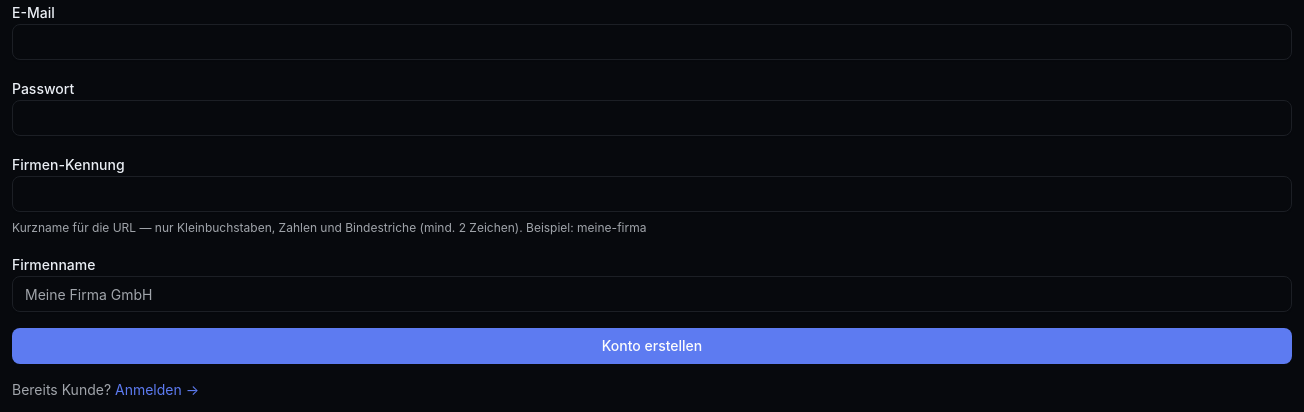
Scenario: RegisterForm › zeigt nach erfolgreichem Submit die Success-Card
Type "max@example.com" into the field labelled "E-Mail" at [652, 42], box [12,24,1292,60]
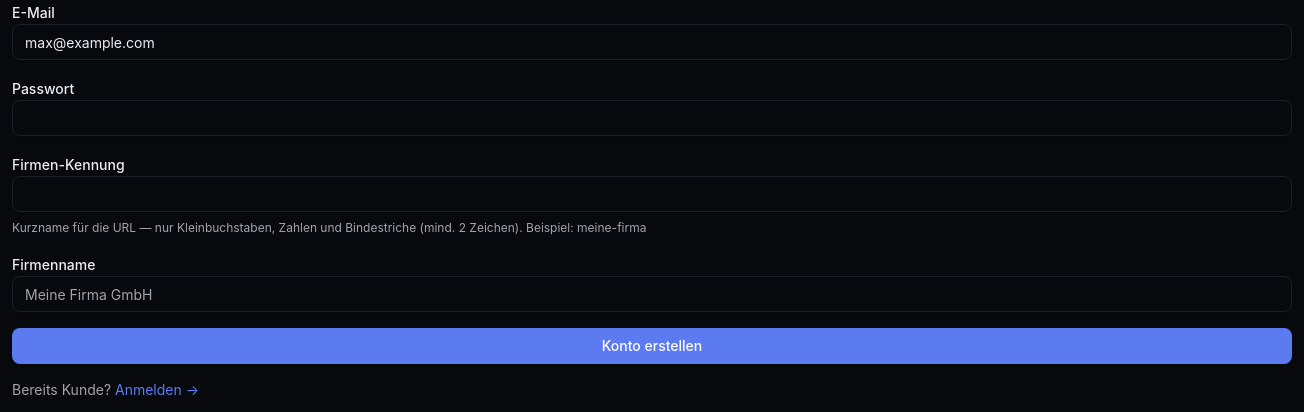
Type "sehrsicherespasswort" into the password field labelled "Passwort" at [652, 118], box [12,100,1292,136]
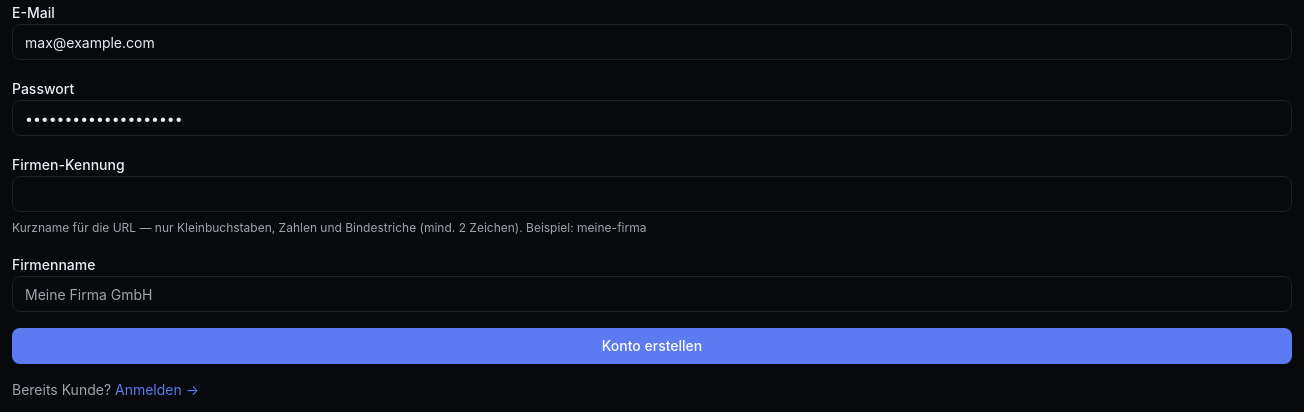
Type "demo-firma" into the field labelled "Firmen-Kennung" at [652, 194], box [12,176,1292,212]
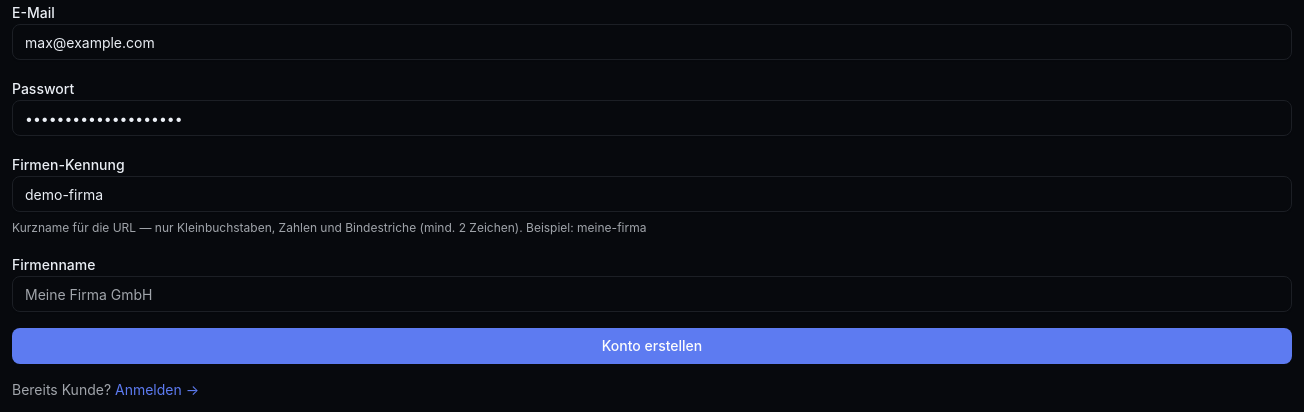
Type "Demo Firma GmbH" into the field labelled "Firmenname" at [652, 294], box [12,276,1292,312]
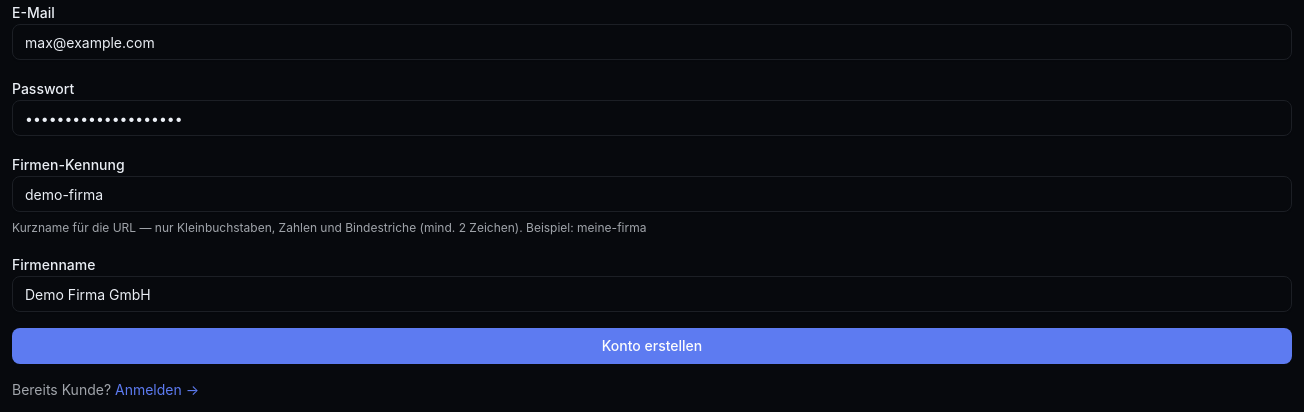
Click the button "Konto erstellen" at [652, 346], box [12,328,1292,364]
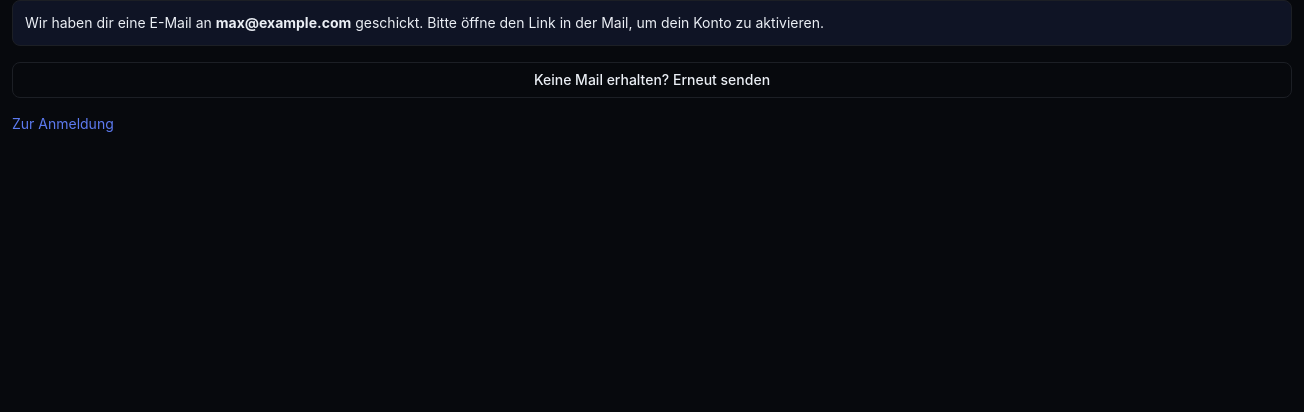
Now the text "Wir haben dir eine E-Mail an" is shown, box [25,14,216,31]
Now the text "max@example.com" is shown, box [216,14,351,31]
